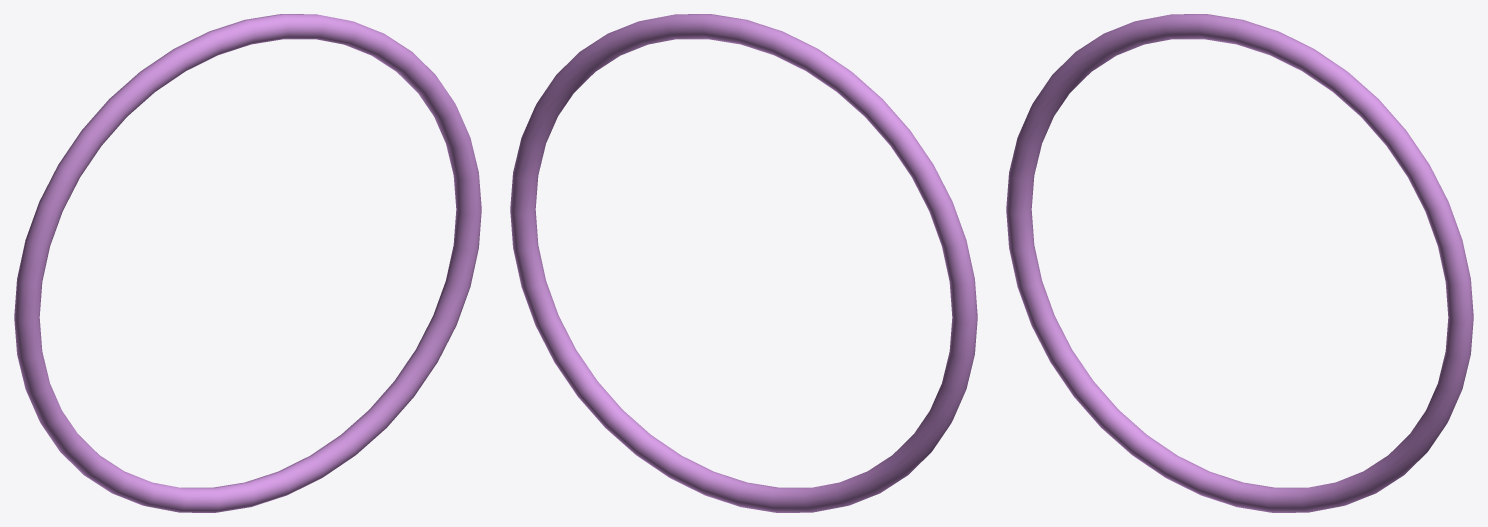
The model's file is asix_xz.obj.
The picture shows the model from 3 angles, left to right: view 1: azimuth 30°, elevation 25°; view 2: azimuth 150°, elevation 25°; view 3: azimuth 330°, elevation 25°; orthographic projection.
Parts seen in each view (by area): view 1: Torus001; view 2: Torus001; view 3: Torus001.
Part boxes in pixels (x1,y1,x2,y2): Torus001: (14,14,481,512); Torus001: (510,14,977,512); Torus001: (1006,14,1473,512).
Bounding box in the file's own units: 84 × 84 × 4.
